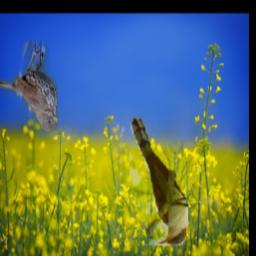Cuckoo: (130, 117, 189, 247)
Sparrow: (0, 42, 59, 132)
